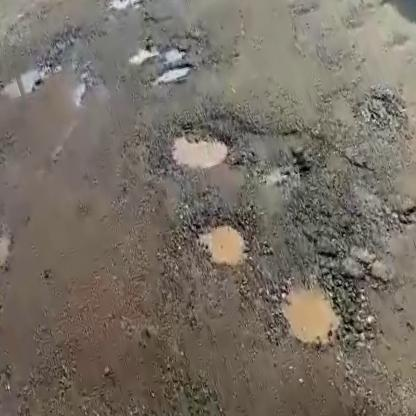pothole: (271, 265, 351, 352), (159, 111, 235, 182), (192, 210, 256, 276), (127, 31, 188, 69), (0, 61, 50, 104), (145, 56, 202, 93), (102, 0, 179, 14)
